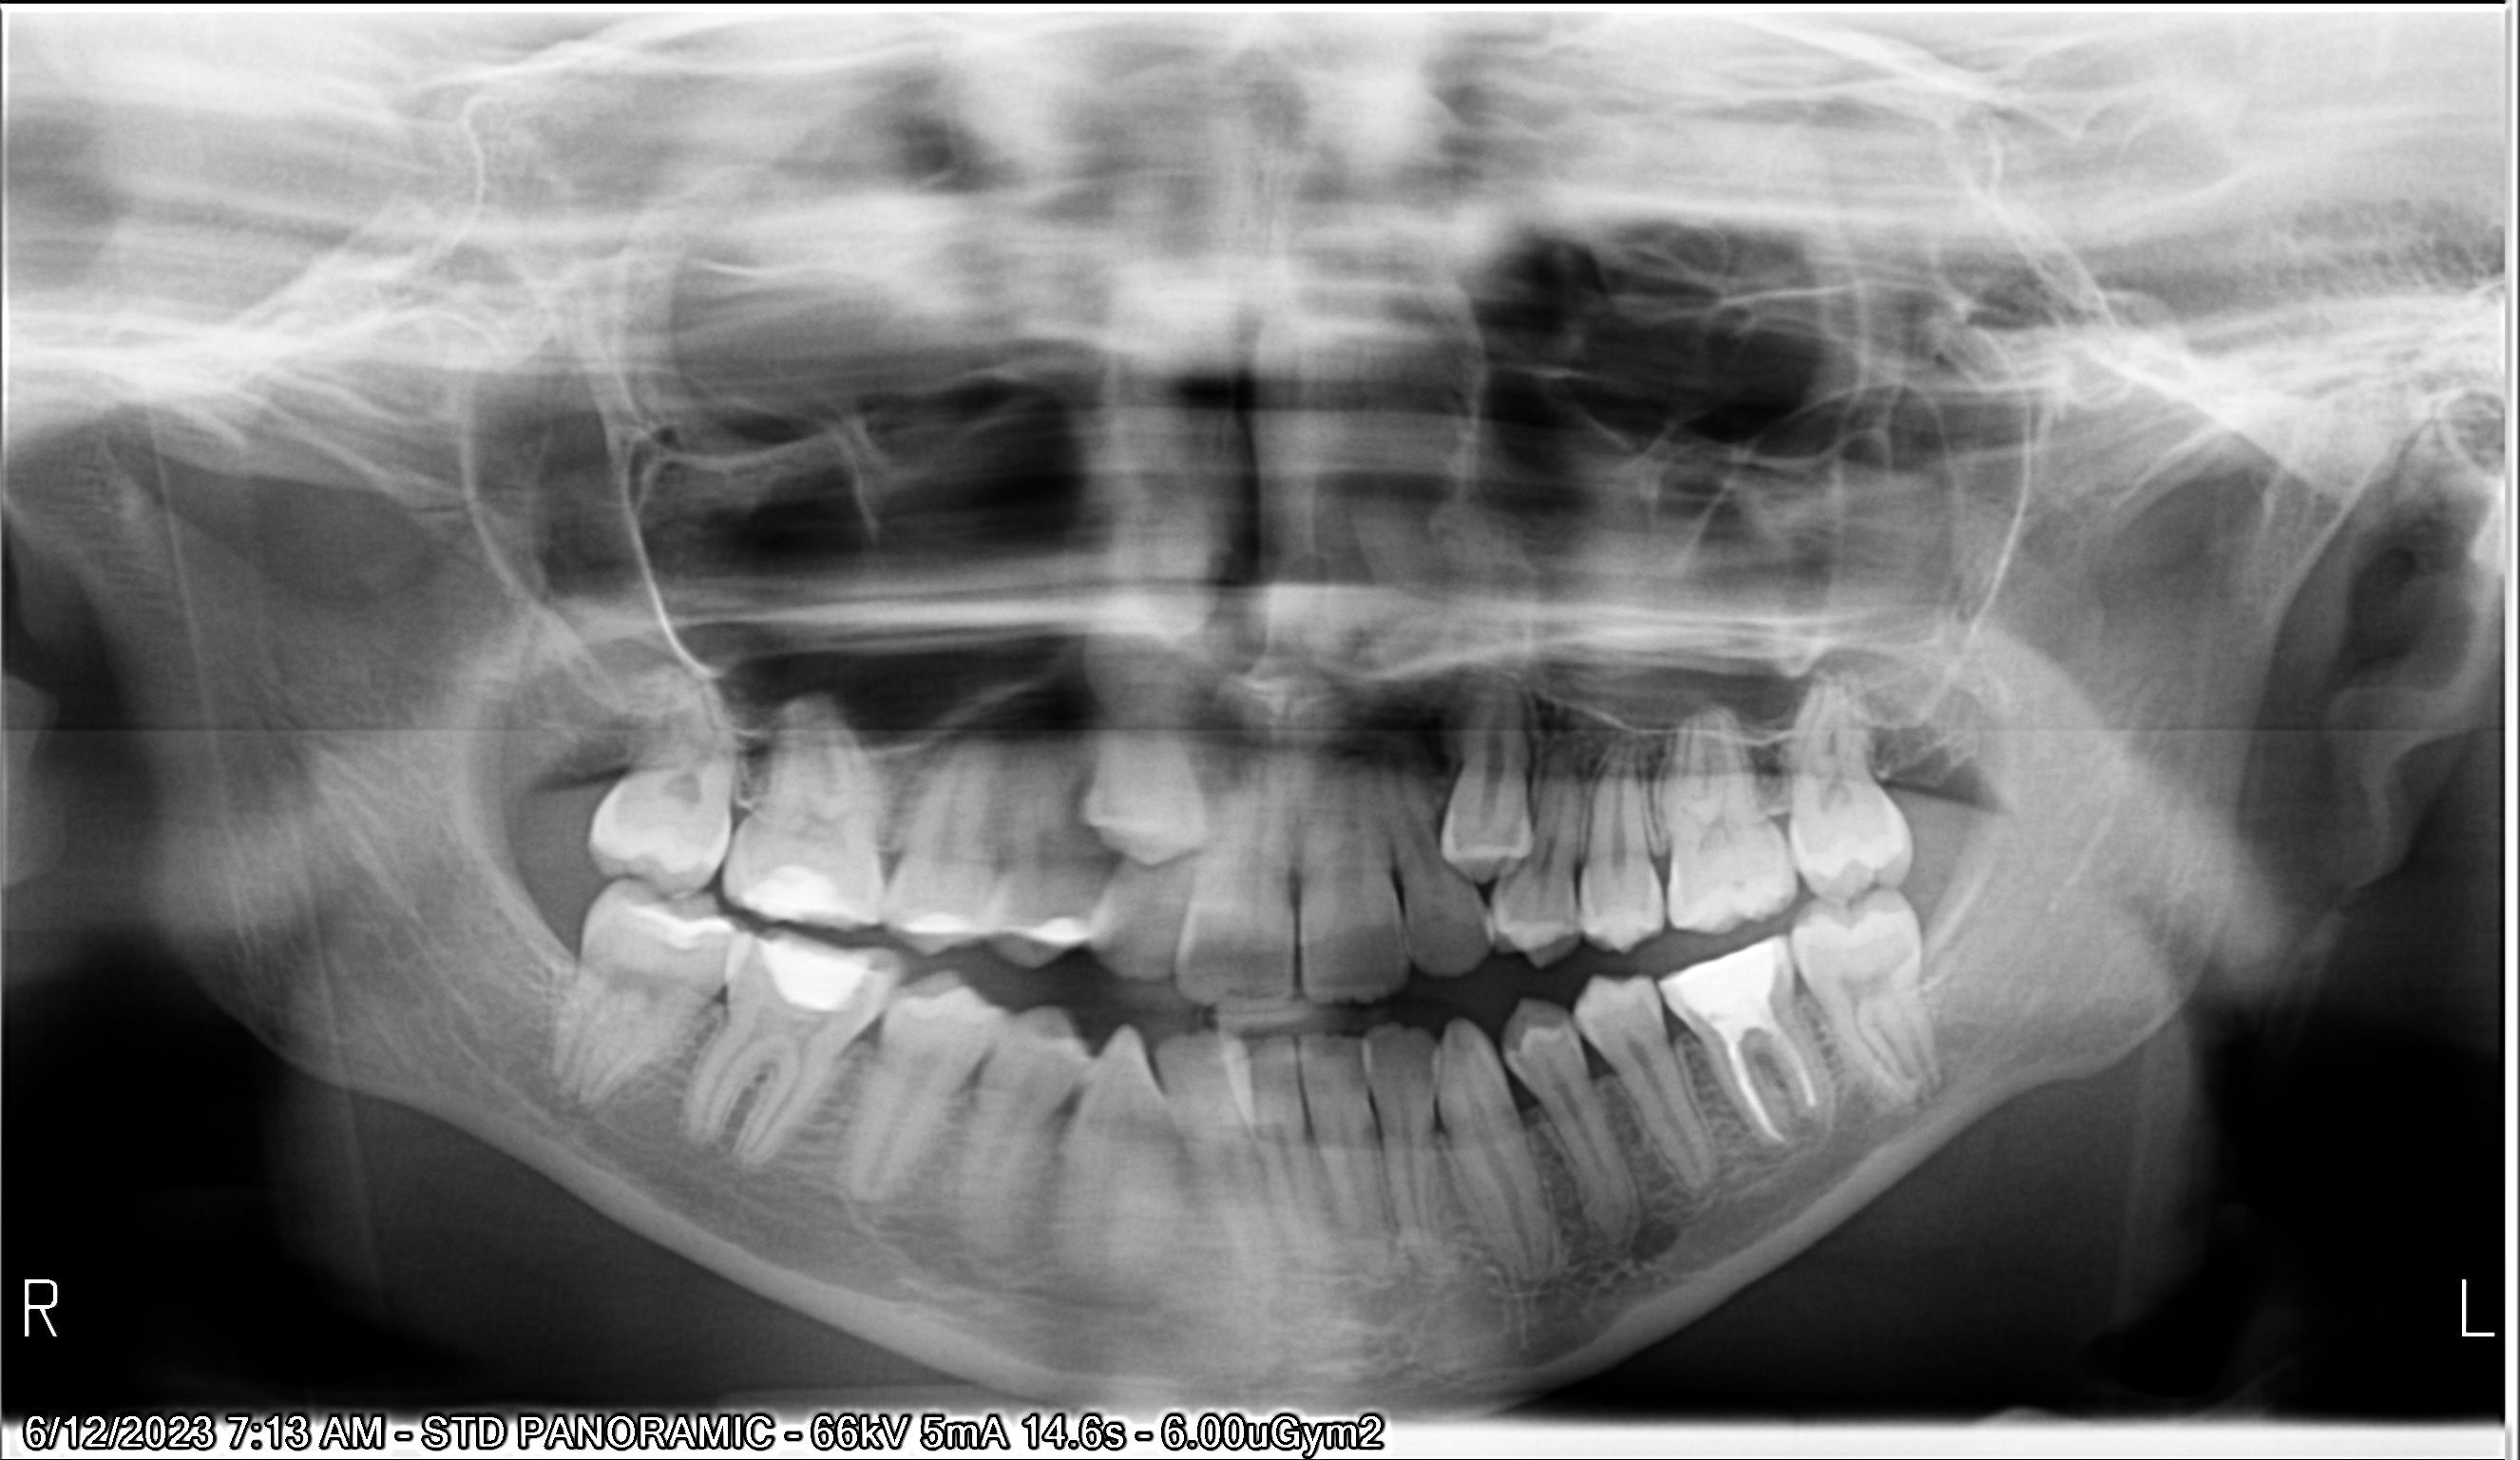END: (797, 436, 2520, 1460)
OBT: (764, 410, 2520, 1455), (278, 396, 1179, 1420), (299, 403, 1188, 1317), (233, 417, 981, 1387)
